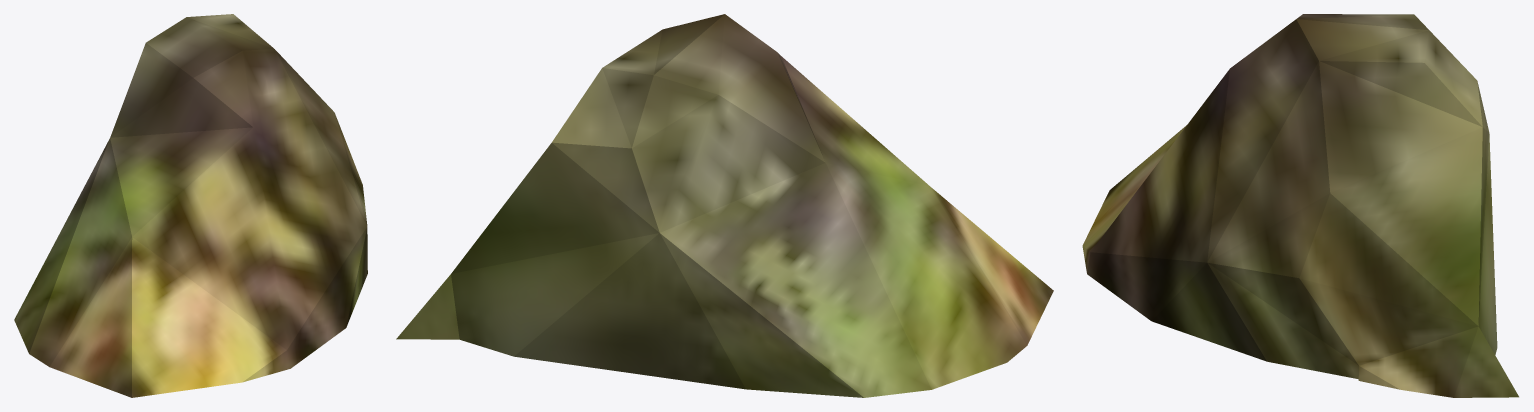
3 views of the same model, side by side, from view 1: azimuth 30°, elevation 25°; view 2: azimuth 150°, elevation 25°; view 3: azimuth 270°, elevation 25° (orthographic). The views are drawn at different scales.
Size of the model in its own units: 0.1806 by 0.104 by 0.1477.
1 material, 1 textured.
